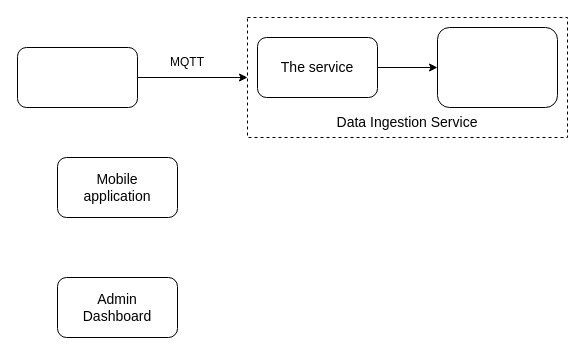
The diagram is 585 pixels wide and 355 high, and some of its shapes have lost their labels. The box of each missing label's shape, as (x1, y1, x2, y2) in pixels:
IoT Device on Buses: (16, 46, 138, 108)
Message Queue (SQS): (436, 26, 558, 108)
